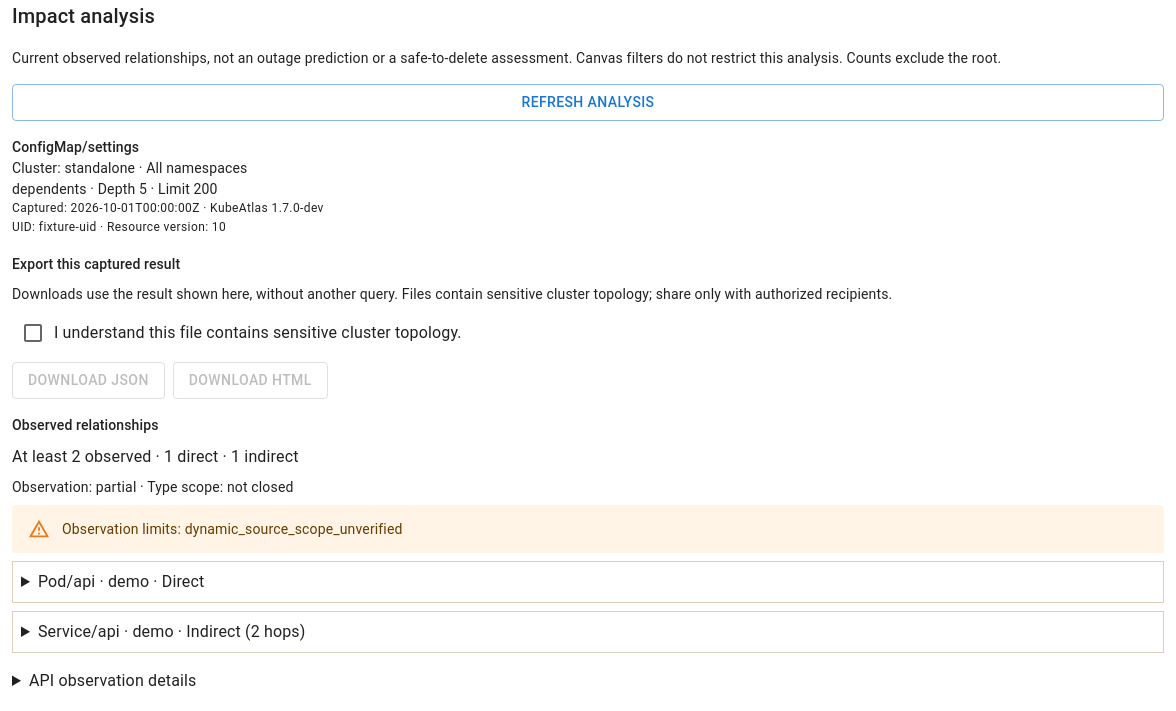
Test: optional API versions, shapes and endpoints lacking observation evidence stay distinct
Click the heading "API observation details" at (113, 680), box [29, 671, 196, 690]
(page scrolled)
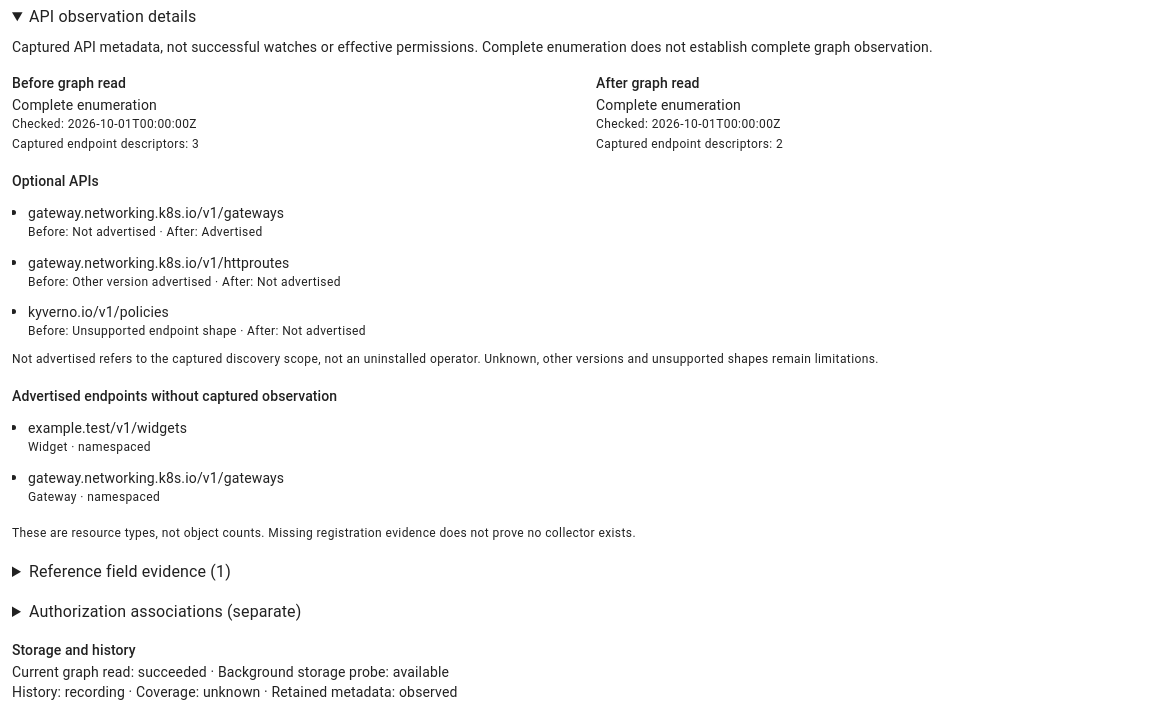
Result: the text "Before: Not advertised · After: Advertised" is shown at [28, 225, 263, 239]
Result: the text "Before: Other version advertised · After: Not advertised" is shown at [28, 274, 341, 288]
Result: the text "Before: Unsupported endpoint shape · After: Not advertised" is shown at [28, 324, 366, 338]
